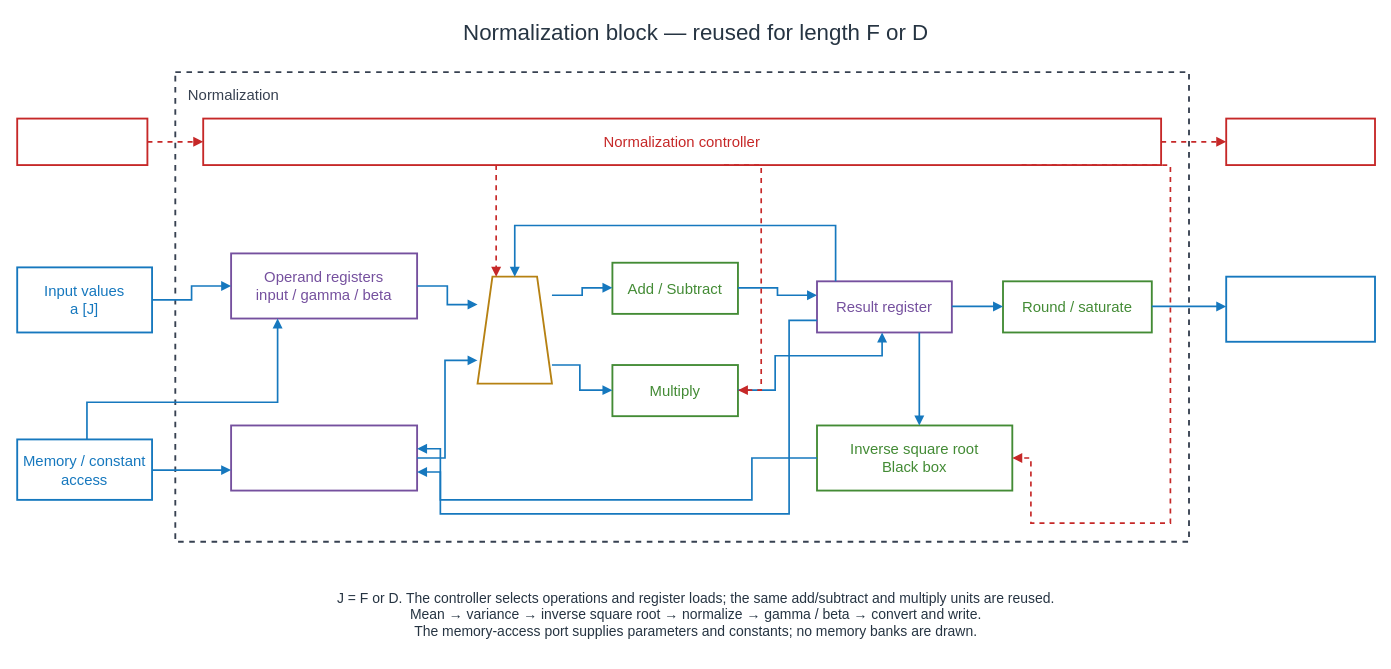
Image size: 1391x669. Some labels were removed from this diagram. Here are the shapes that lost their labels. From the top down, the centre of each, then its label:
At (x=82, y=141): "Start / command".
At (x=1300, y=141): "Done / error".
At (x=1300, y=308): "Normalized values o [J]".
At (x=514, y=329): "Operand select".
At (x=324, y=457): "Statistics registers sum / mean / scale".
